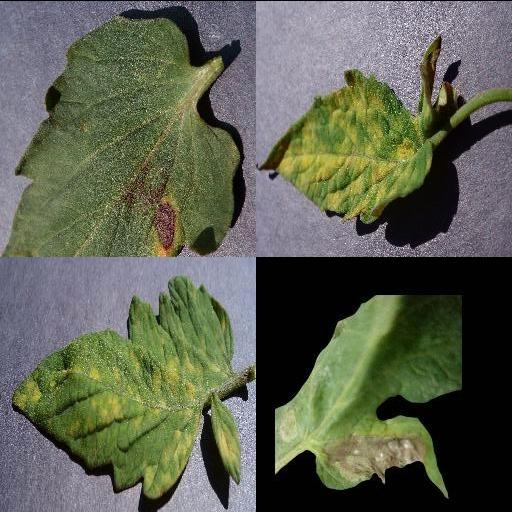Early Blight: (3, 16, 240, 256)
Late Blight: (274, 293, 464, 497)
Leaf Mold: (10, 274, 244, 498), (256, 69, 433, 225)
